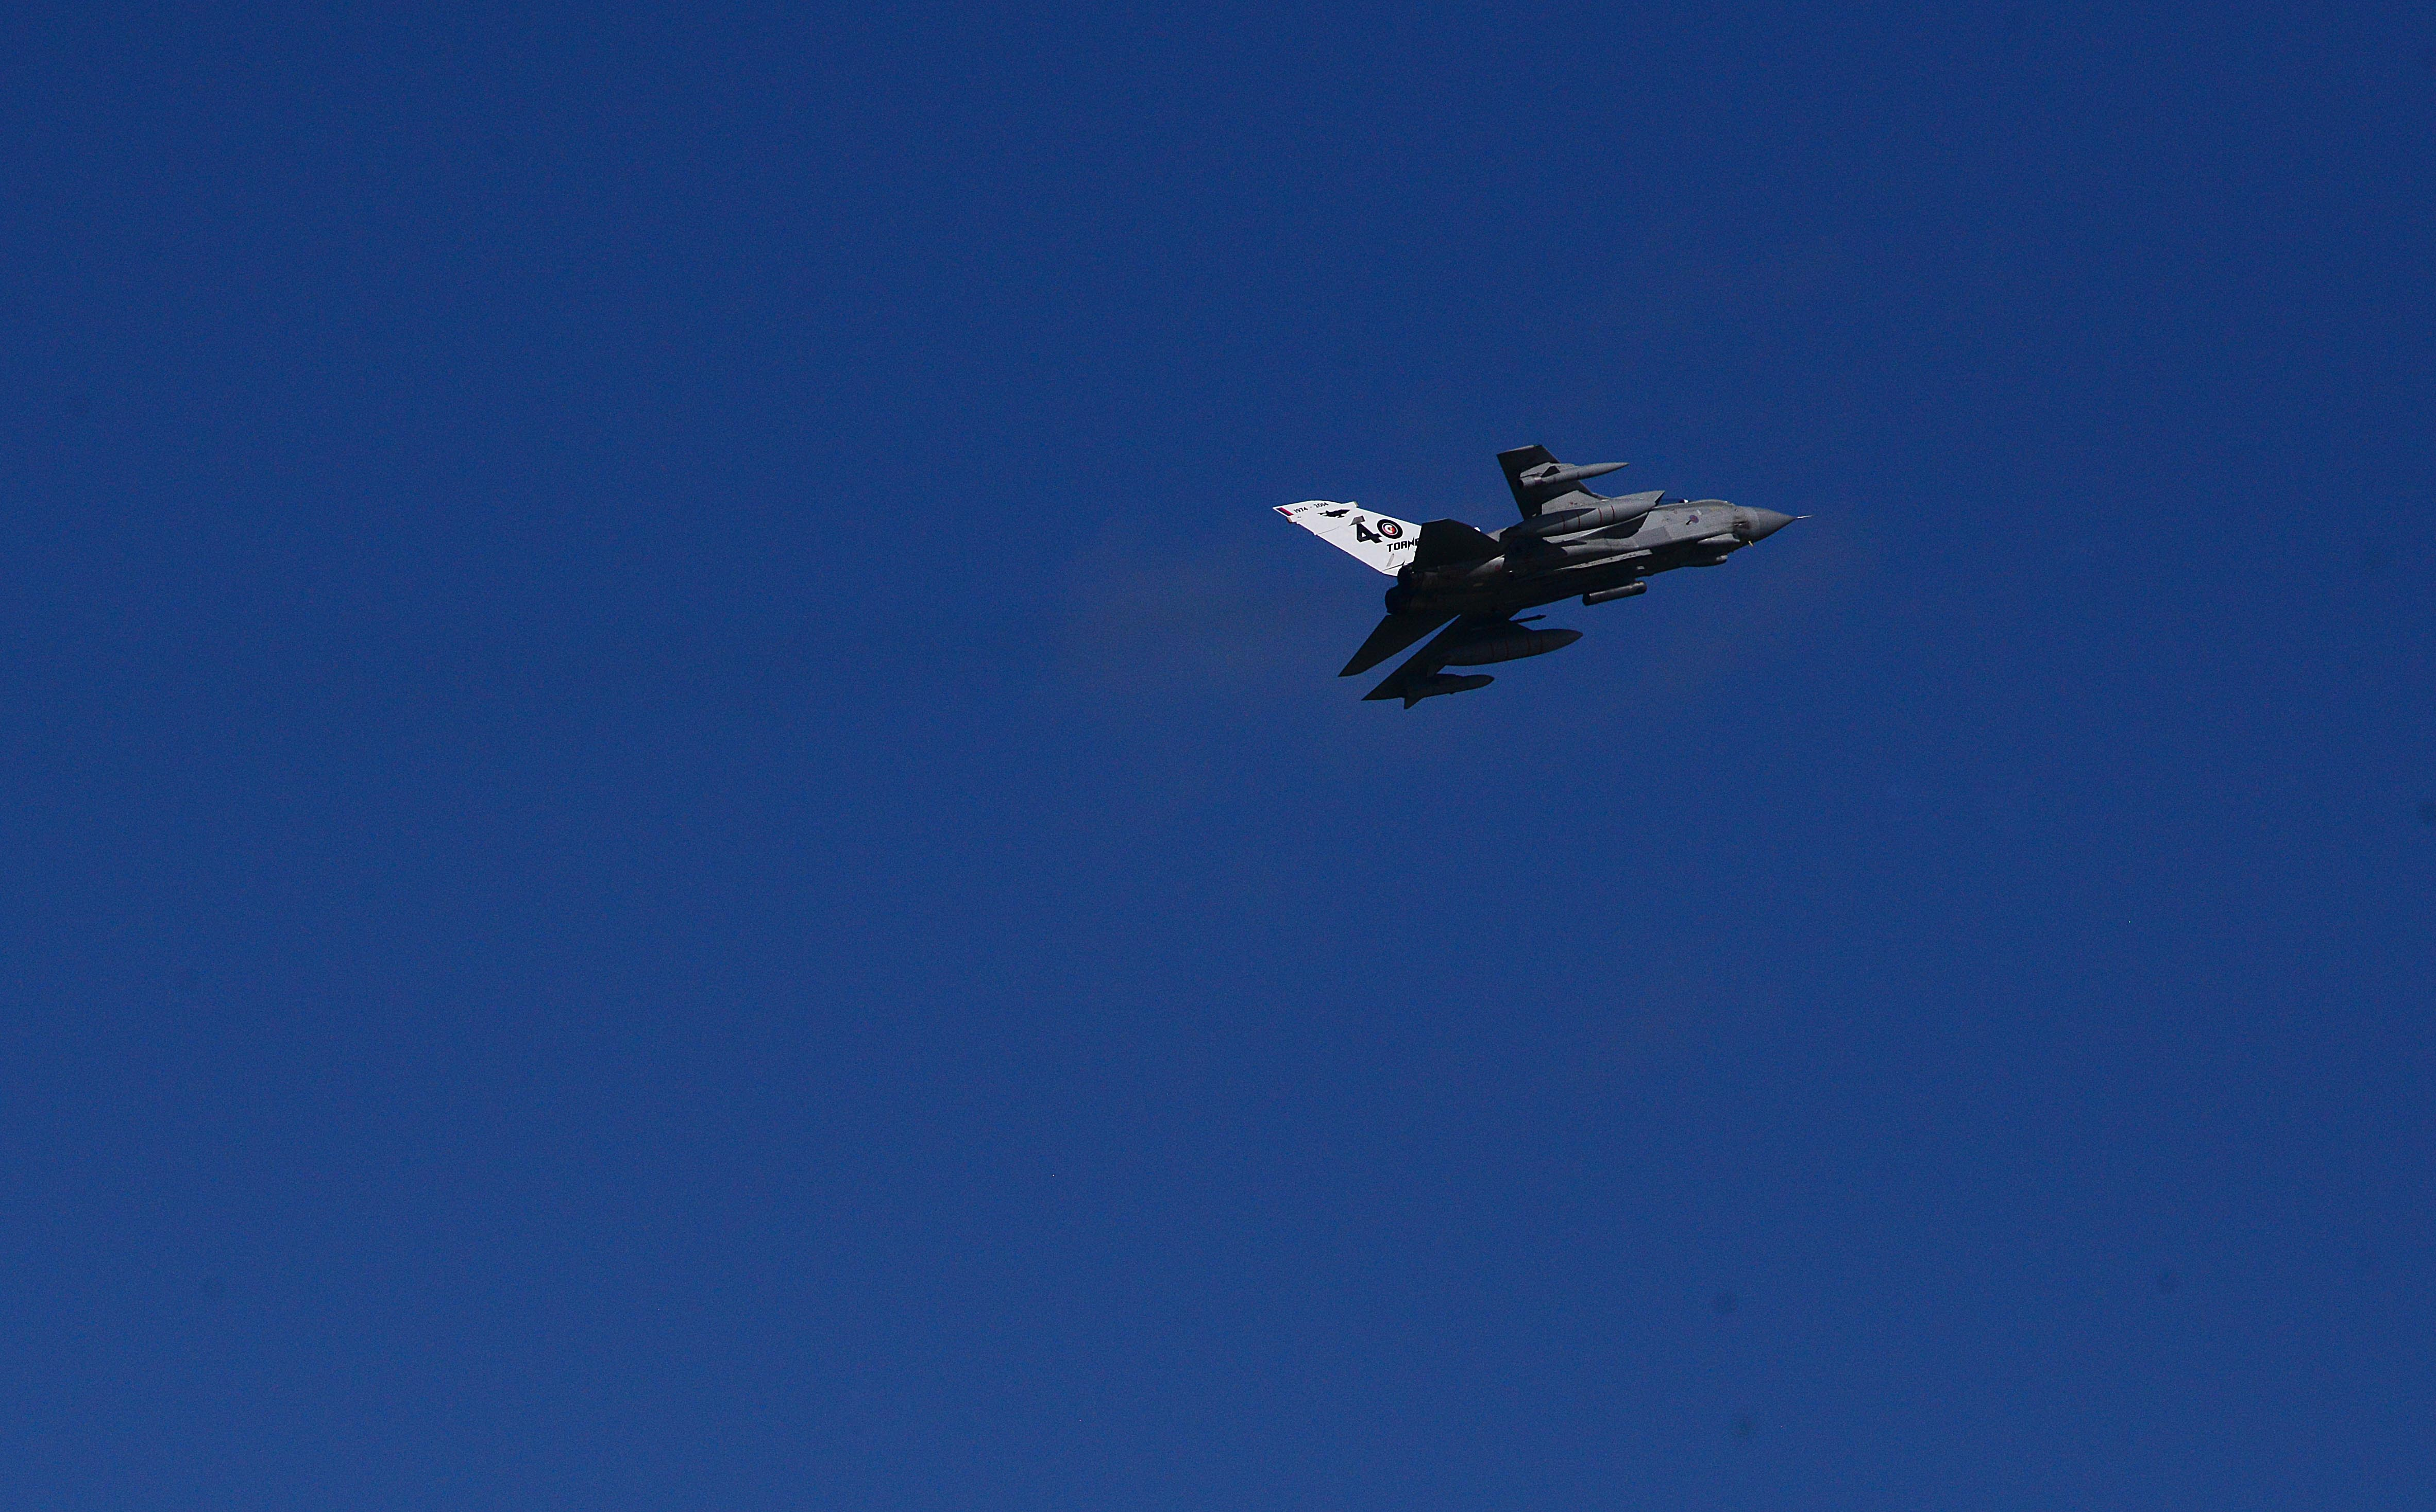Tornado: (1273, 444, 1816, 711)
